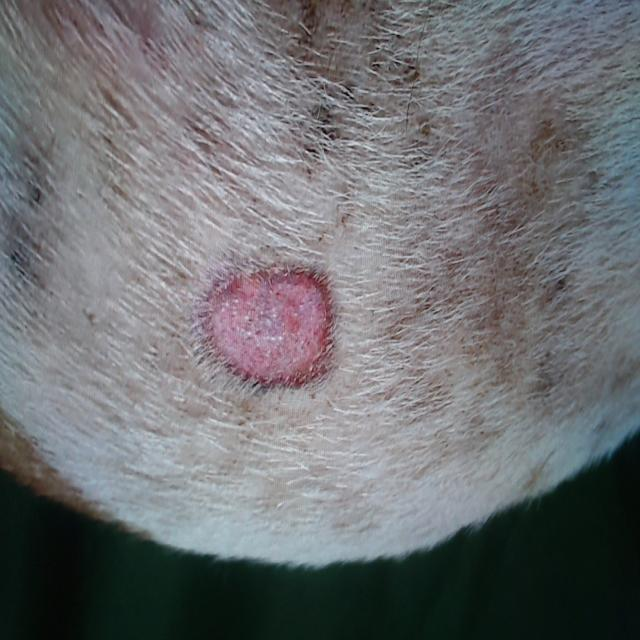ringworm: (175, 210, 351, 418)
